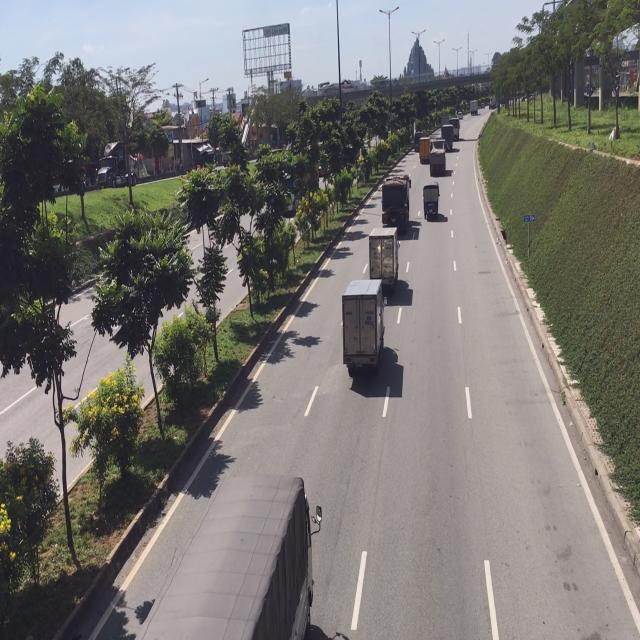truck: (133, 466, 314, 640), (340, 276, 384, 376), (369, 223, 399, 294), (381, 172, 410, 228), (429, 136, 447, 174), (422, 180, 438, 221)
